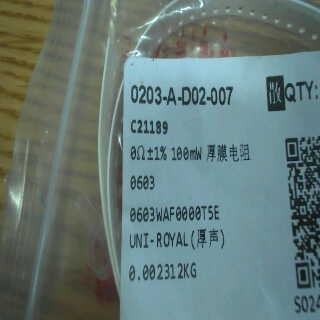0R: (129, 139, 206, 195)
